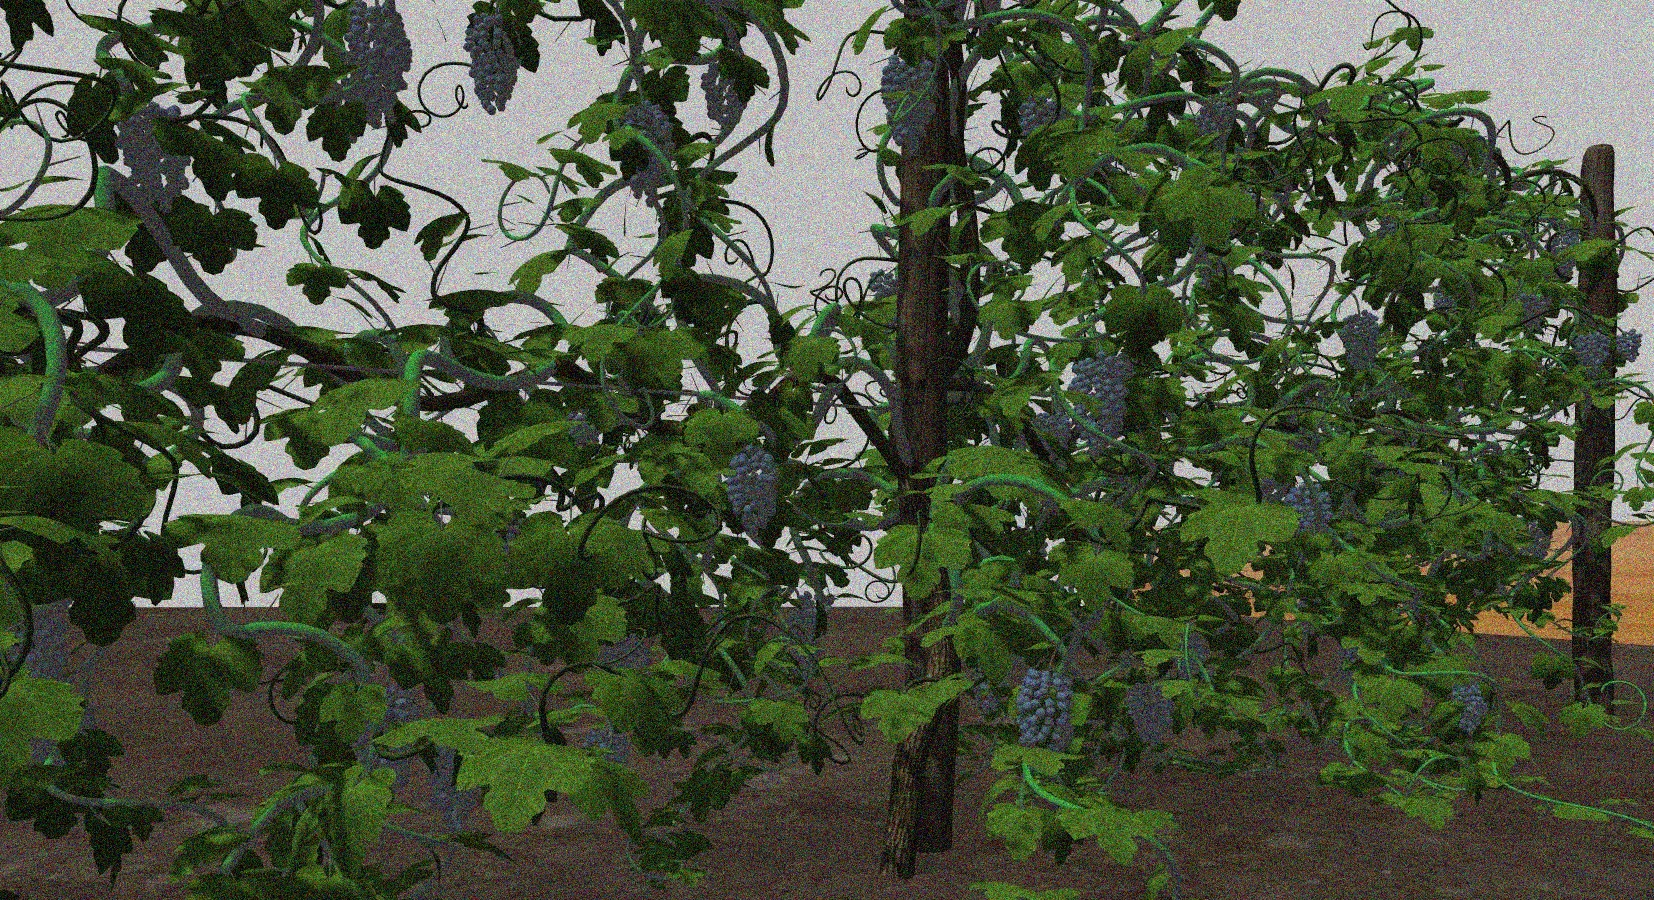grape: (345, 3, 414, 131), (115, 100, 192, 215), (1067, 352, 1133, 459), (616, 99, 676, 208), (877, 54, 938, 158), (464, 12, 520, 116), (428, 730, 481, 832), (722, 444, 783, 532), (1015, 667, 1075, 755), (1124, 678, 1174, 749), (700, 57, 750, 127), (788, 591, 826, 681), (1283, 479, 1332, 536), (1340, 310, 1381, 370), (1446, 682, 1490, 736), (1574, 323, 1611, 375), (1017, 93, 1060, 135), (1034, 412, 1071, 458), (1551, 226, 1581, 275), (1195, 100, 1232, 140), (1517, 290, 1549, 328), (1616, 329, 1641, 365)
